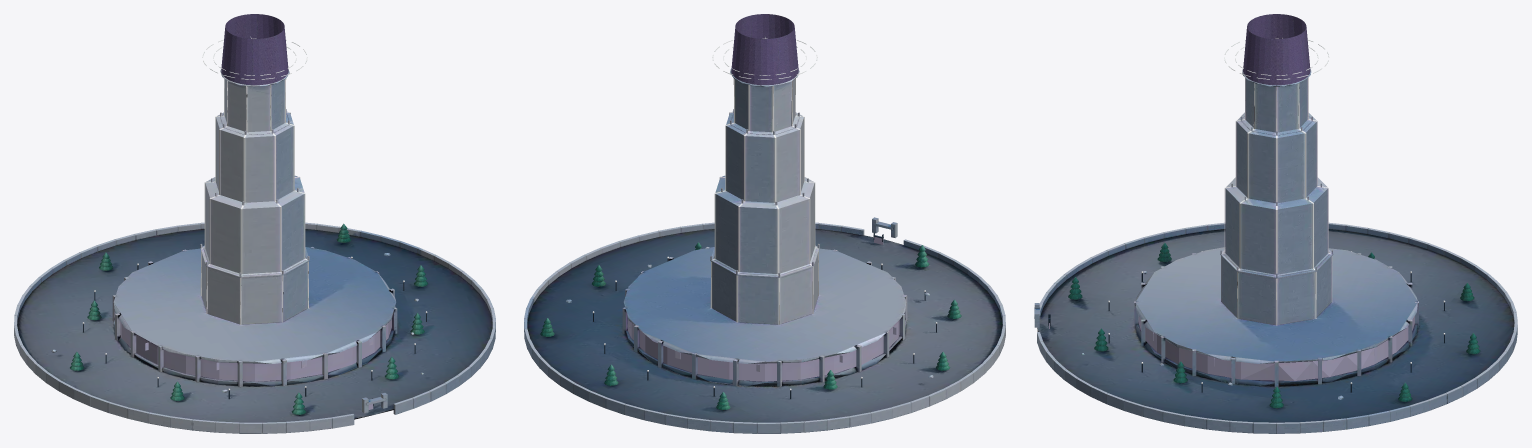
The model's file is mage_tower_low.glb.
3 renders of one model, left to right at view 1: azimuth 30°, elevation 25°; view 2: azimuth 150°, elevation 25°; view 3: azimuth 270°, elevation 25°, orthographic.
Parts seen in each view (by area): view 1: site_ground, props_podium, walls_ext, props_wall_gate, props_crown, props_garden; view 2: site_ground, props_podium, walls_ext, props_wall_gate, props_crown, props_garden; view 3: site_ground, props_podium, walls_ext, props_wall_gate, props_crown, props_garden.
Boxes of the visible parts, x1=… form: site_ground: x1=17, y1=229, x2=492, y2=422; props_podium: x1=112, y1=247, x2=397, y2=387; walls_ext: x1=200, y1=78, x2=309, y2=324; props_wall_gate: x1=14, y1=222, x2=495, y2=433; props_crown: x1=202, y1=14, x2=307, y2=86; props_garden: x1=51, y1=223, x2=427, y2=415; site_ground: x1=527, y1=229, x2=1002, y2=422; props_podium: x1=622, y1=247, x2=907, y2=387; walls_ext: x1=710, y1=78, x2=819, y2=324; props_wall_gate: x1=524, y1=217, x2=1005, y2=433; props_crown: x1=712, y1=14, x2=817, y2=86; props_garden: x1=540, y1=242, x2=961, y2=410; site_ground: x1=1037, y1=229, x2=1514, y2=422; props_podium: x1=1134, y1=247, x2=1418, y2=387; walls_ext: x1=1220, y1=77, x2=1333, y2=325; props_wall_gate: x1=1034, y1=222, x2=1517, y2=433; props_crown: x1=1224, y1=14, x2=1329, y2=86; props_garden: x1=1068, y1=242, x2=1480, y2=408.
Size of the model in its own units: 157 by 110 by 157.
Materials: 8 (8 with a texture image).
